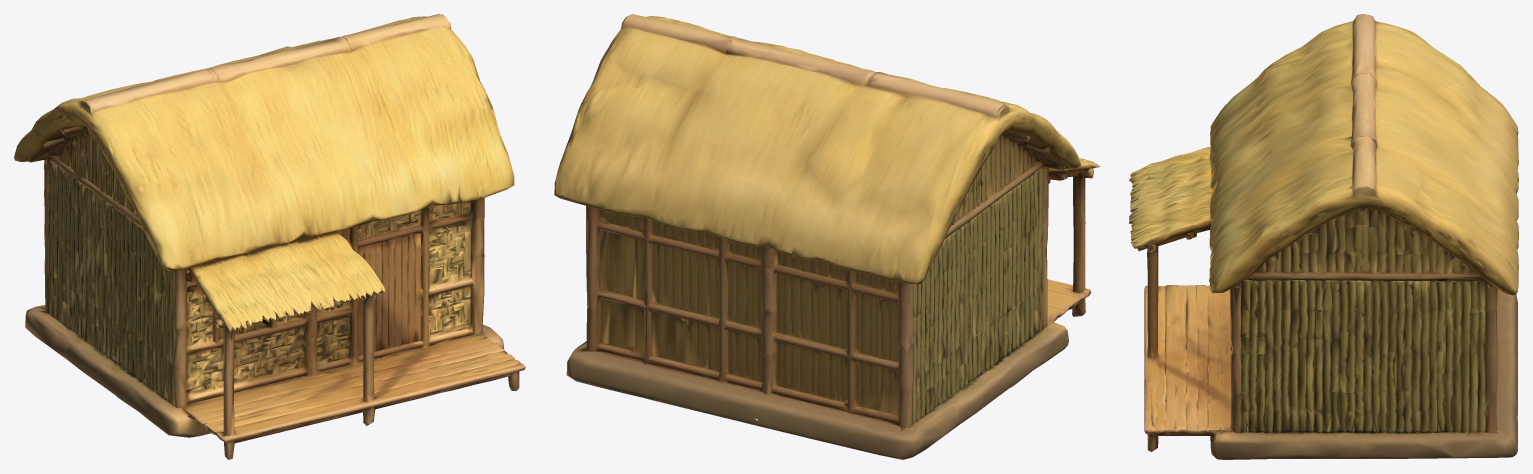
The model's file is nha-mai-tranh.9d83c67d.glb.
The picture shows the model from 3 angles, left to right: view 1: azimuth 30°, elevation 25°; view 2: azimuth 150°, elevation 25°; view 3: azimuth 270°, elevation 25°; orthographic projection. The views are drawn at different scales.
Parts seen in each view (by area): view 1: tripo_node_dd758f07-c6de-4ccc-aace-e3f0e90ebc94; view 2: tripo_node_dd758f07-c6de-4ccc-aace-e3f0e90ebc94; view 3: tripo_node_dd758f07-c6de-4ccc-aace-e3f0e90ebc94.
Boxes of the visible parts, box(x1,y1,x2,y2) form: tripo_node_dd758f07-c6de-4ccc-aace-e3f0e90ebc94: box(14, 14, 525, 459); tripo_node_dd758f07-c6de-4ccc-aace-e3f0e90ebc94: box(554, 14, 1100, 459); tripo_node_dd758f07-c6de-4ccc-aace-e3f0e90ebc94: box(1129, 14, 1518, 459).
Size of the model in its own units: 0.9794 by 0.7399 by 0.9159.
1 material, 1 textured.
